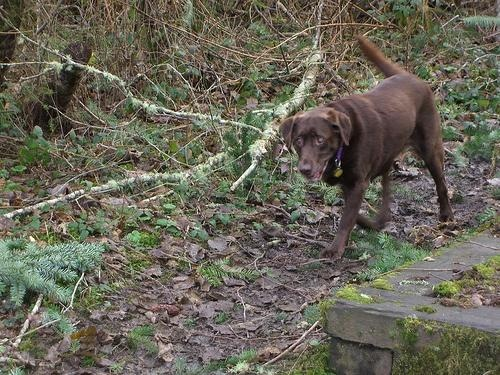dog: (280, 32, 456, 257)
